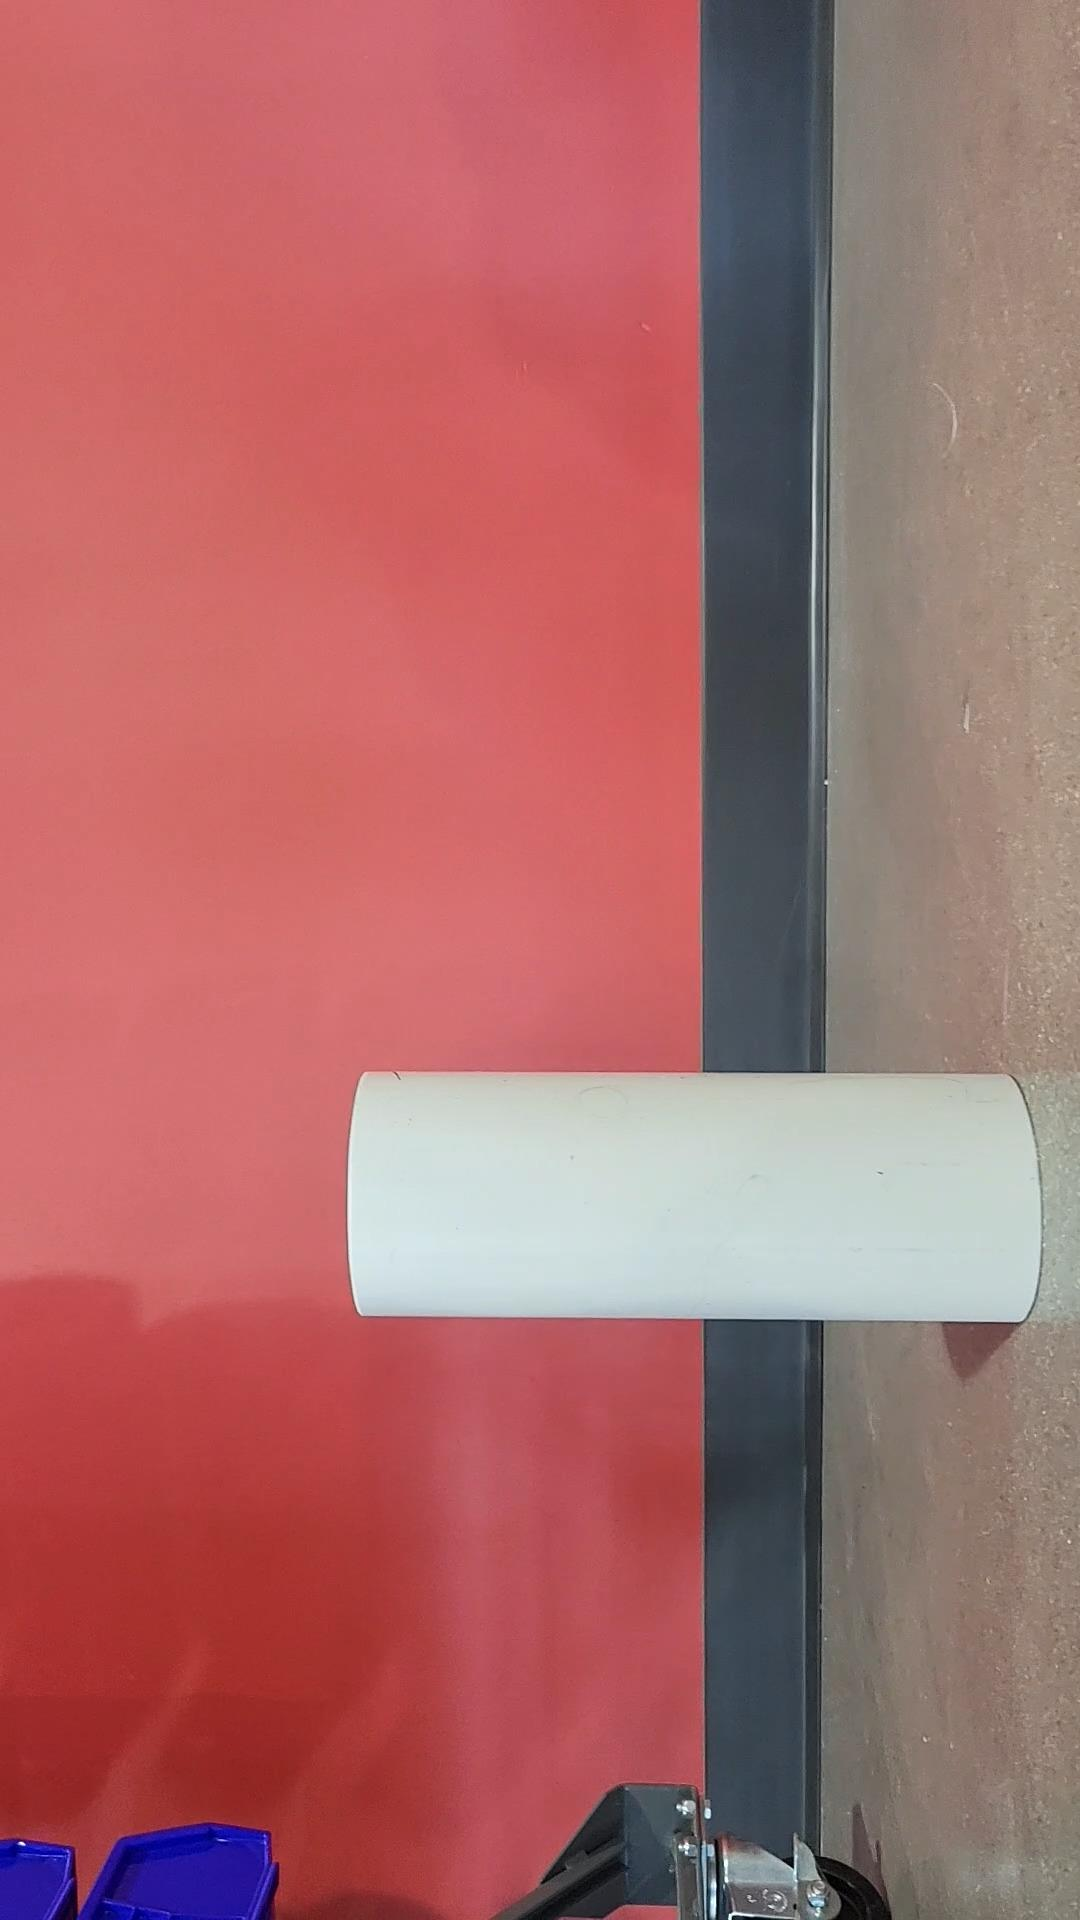coral: (345, 1068, 1052, 1332)
